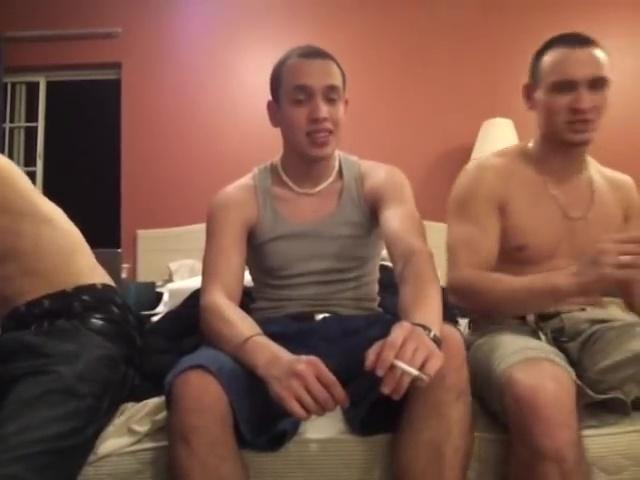cigarette: (395, 354, 432, 385)
